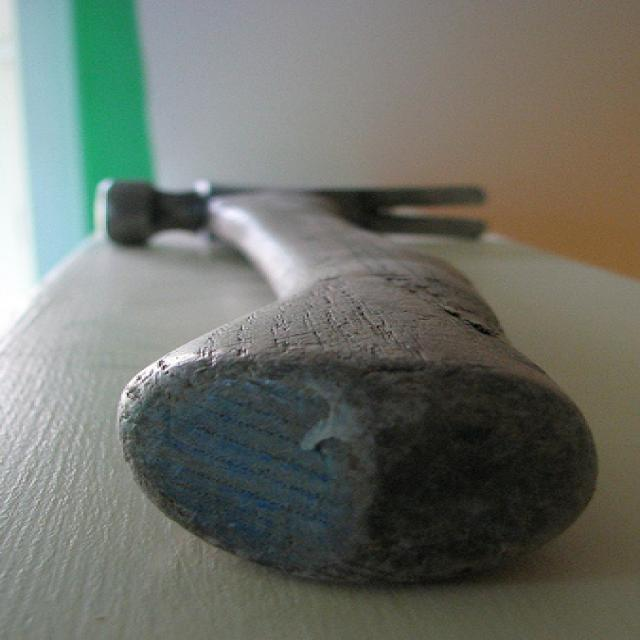hammer: (49, 166, 616, 590)
